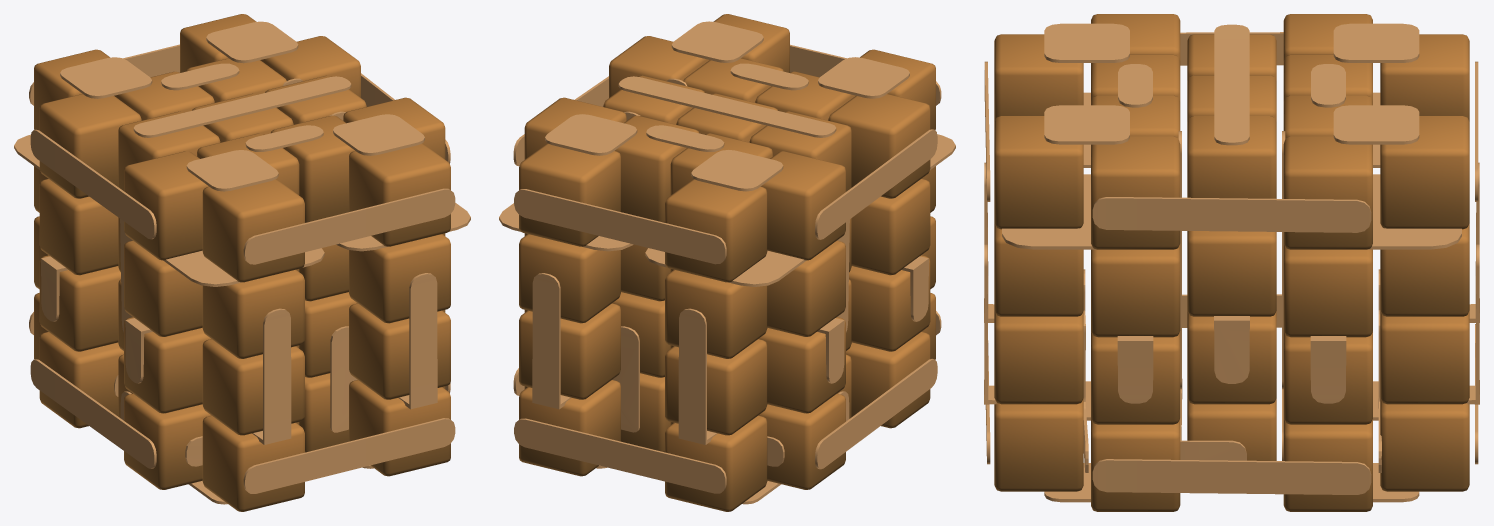
The model's file is level_124.fbx.
3 views of the same model, side by side, from view 1: azimuth 30°, elevation 25°; view 2: azimuth 150°, elevation 25°; view 3: azimuth 270°, elevation 25° (orthographic). The views are drawn at different scales.
Parts seen in each view (by area): view 1: Cube_L1_28.012, Cube_L1_28.013, Link_20, Link_22, Cube_L1_28.026, Cube_L1_28.034, Cube_L1_28.011, Cube_L1_28.005, Cube_L1_28.035, Cube_L1_28.049, Cube_L1_28.028, Cube_L1_28.027 (+38 smaller); view 2: Cube_L1_28.015, Cube_L1_28.005, Link_21, Link_19, Cube_L1_28.055, Cube_L1_28.056, Cube_L1_28.016, Cube_L1_28.013, Cube_L1_28.058, Cube_L1_28.046, Cube_L1_28.057, Cube_L1_28.059 (+38 smaller); view 3: Link_17, Link_15, Cube_L1_28.016, Cube_L1_28.011, Cube_L1_28.035, Cube_L1_28.058, Cube_L1_28, Cube_L1_28.029, Cube_L1_28.036, Cube_L1_28.060, Cube_L1_28.017, Cube_L1_28.008 (+41 smaller).
Boxes of the visible parts, x1=… form: Cube_L1_28.012: x1=202, y1=179, x2=304, y2=282; Cube_L1_28.013: x1=124, y1=151, x2=208, y2=260; Link_20: x1=243, y1=188, x2=455, y2=264; Link_22: x1=243, y1=418, x2=455, y2=493; Cube_L1_28.026: x1=202, y1=269, x2=304, y2=358; Cube_L1_28.034: x1=349, y1=234, x2=450, y2=323; Cube_L1_28.011: x1=349, y1=143, x2=450, y2=246; Cube_L1_28.005: x1=39, y1=94, x2=141, y2=198; Cube_L1_28.035: x1=349, y1=303, x2=450, y2=399; Cube_L1_28.049: x1=39, y1=179, x2=118, y2=275; Cube_L1_28.028: x1=202, y1=415, x2=304, y2=511; Cube_L1_28.027: x1=202, y1=339, x2=304, y2=435; Cube_L1_28.015: x1=665, y1=179, x2=767, y2=282; Cube_L1_28.005: x1=761, y1=151, x2=845, y2=260; Link_21: x1=514, y1=418, x2=726, y2=493; Link_19: x1=514, y1=189, x2=726, y2=264; Cube_L1_28.055: x1=665, y1=269, x2=767, y2=358; Cube_L1_28.056: x1=519, y1=234, x2=620, y2=323; Cube_L1_28.016: x1=519, y1=143, x2=620, y2=246; Cube_L1_28.013: x1=828, y1=94, x2=930, y2=198; Cube_L1_28.058: x1=519, y1=303, x2=620, y2=399; Cube_L1_28.046: x1=851, y1=179, x2=930, y2=275; Cube_L1_28.057: x1=665, y1=339, x2=767, y2=435; Cube_L1_28.059: x1=665, y1=415, x2=767, y2=511; Link_17: x1=1092, y1=459, x2=1371, y2=494; Link_15: x1=1092, y1=197, x2=1371, y2=232; Cube_L1_28.016: x1=1380, y1=116, x2=1469, y2=229; Cube_L1_28.011: x1=994, y1=116, x2=1083, y2=229; Cube_L1_28.035: x1=994, y1=311, x2=1083, y2=404; Cube_L1_28.058: x1=1380, y1=311, x2=1469, y2=404; Cube_L1_28: x1=1091, y1=244, x2=1180, y2=337; Cube_L1_28.029: x1=1283, y1=244, x2=1372, y2=337; Cube_L1_28.036: x1=994, y1=398, x2=1083, y2=491; Cube_L1_28.060: x1=1380, y1=398, x2=1469, y2=491; Cube_L1_28.017: x1=1187, y1=231, x2=1276, y2=316; Cube_L1_28.008: x1=1283, y1=136, x2=1372, y2=249.
Size of the model in its own units: 8.83 by 8.8 by 10.9.
